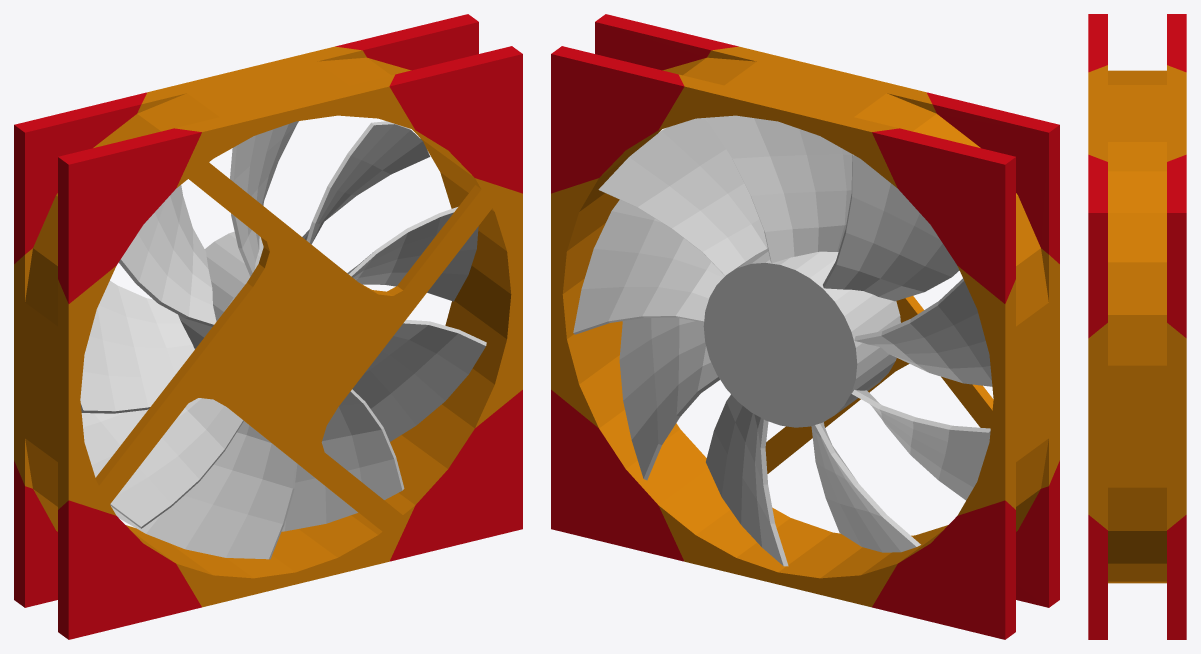
Rendered from PC_Fans(NEW).fbx.
3 renders of one model, left to right at view 1: azimuth 30°, elevation 25°; view 2: azimuth 150°, elevation 25°; view 3: azimuth 270°, elevation 25°, orthographic. The views are drawn at different scales.
Parts seen in each view (by area): view 1: PC_Fan_Base, PC_Fan; view 2: PC_Fan_Base, PC_Fan; view 3: PC_Fan_Base.
Part boxes in pixels (bbox=[...]): PC_Fan_Base: bbox=[14, 14, 522, 639]; PC_Fan: bbox=[80, 121, 486, 559]; PC_Fan_Base: bbox=[551, 14, 1059, 639]; PC_Fan: bbox=[573, 115, 992, 566]; PC_Fan_Base: bbox=[1088, 14, 1186, 639].
Size of the model in its own units: 12 by 12 by 2.5.
